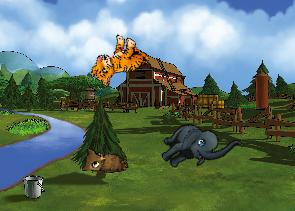elephant: (153, 102, 242, 190)
owl: (79, 142, 129, 176)
tiger: (86, 28, 153, 97)
